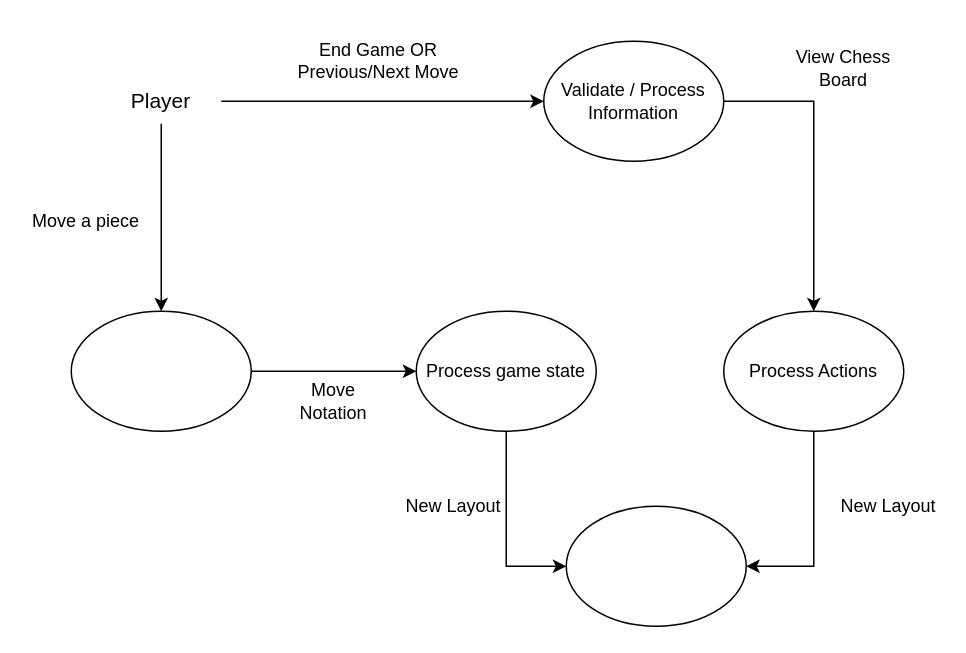
Image size: 966x653. Some labels were removed from this diagram. Here are the shapes that lost their labels. From the top down, the centre of each, then its label:
the point at 160,370: Move Management
the point at 655,565: Chess Board
